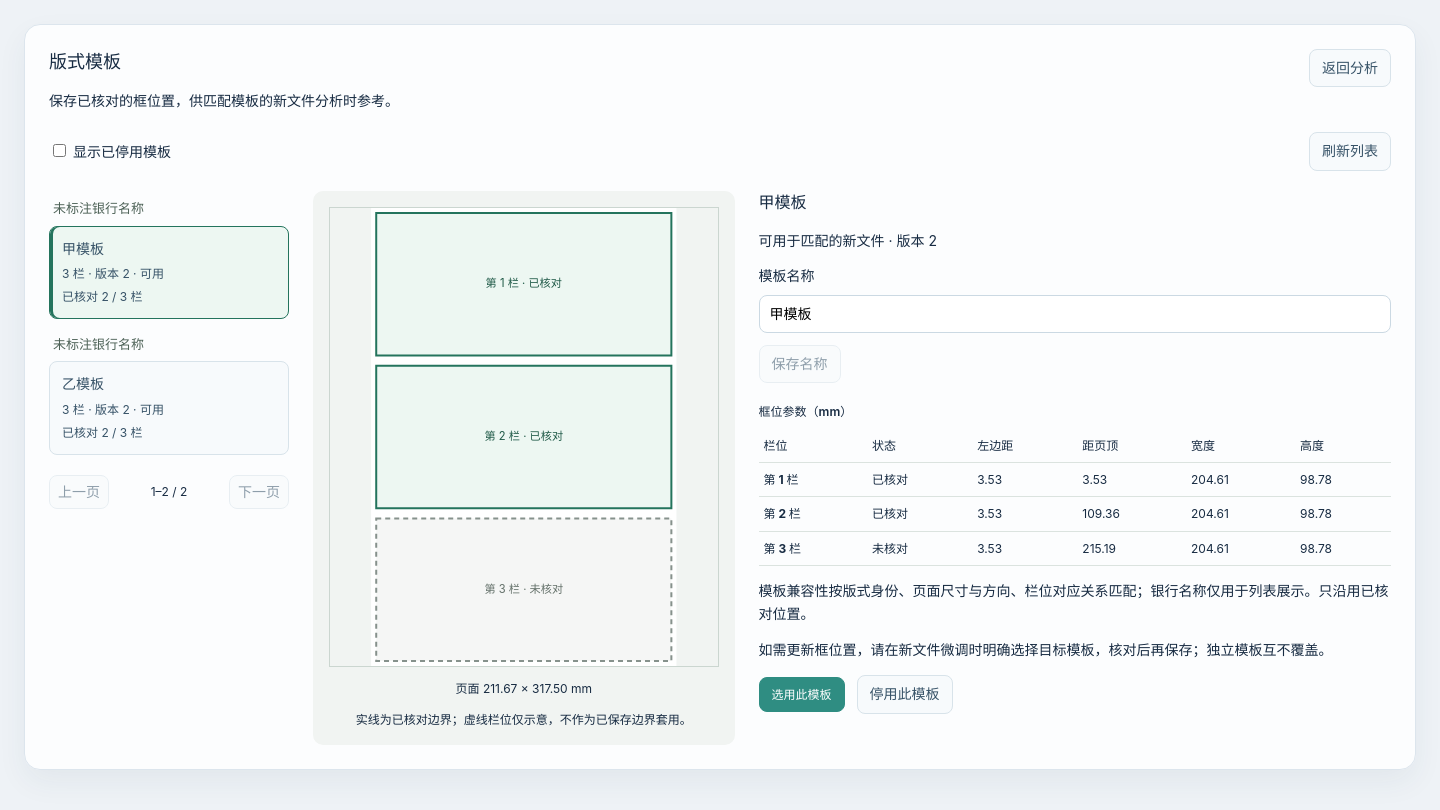
Test: LayoutTemplateManager › keeps a pending rename bound to its template and does not rename another selection
Replace the text in the field labelled "模板名称" with "甲模板新名" at (1075, 314), box [759,295,1391,333]
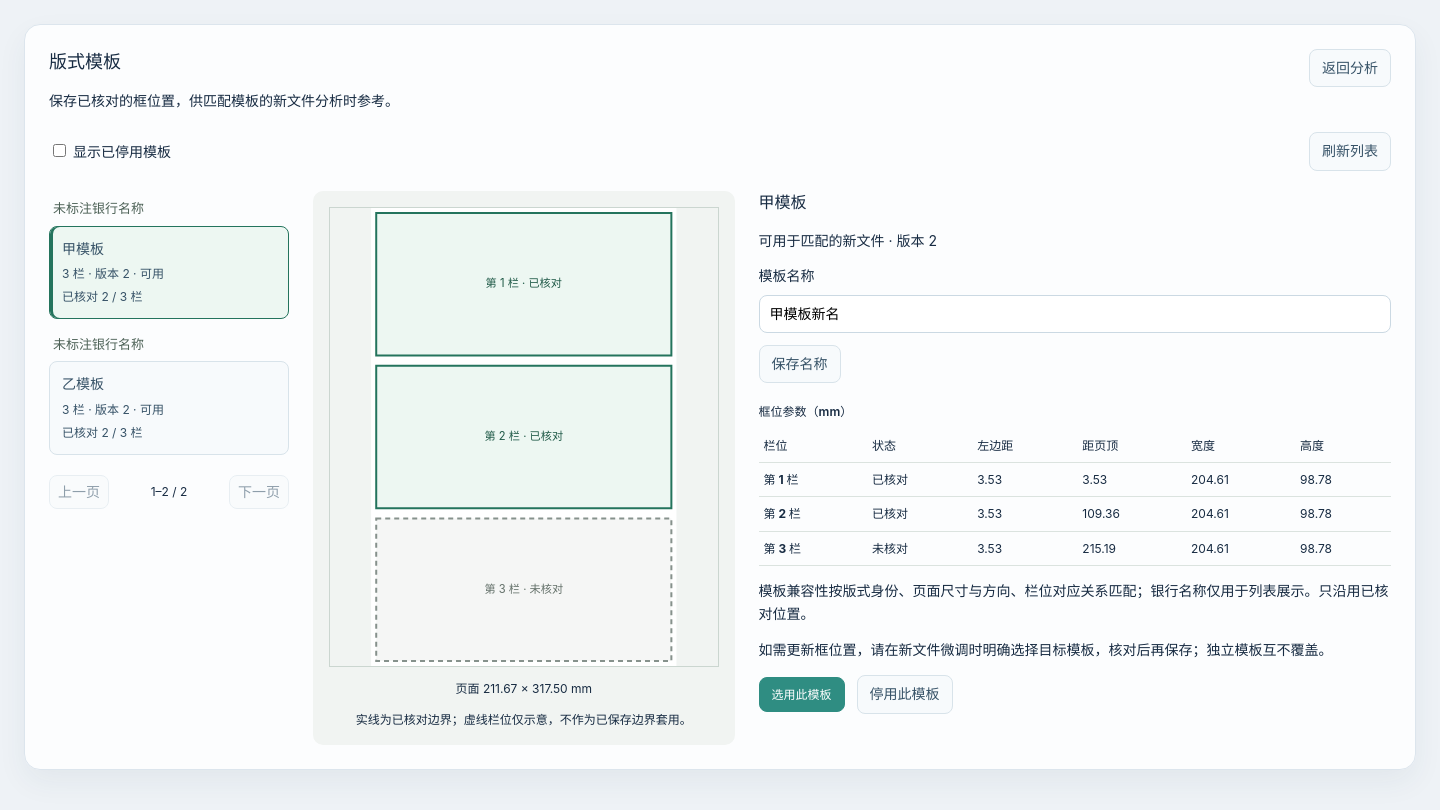
Click the button "保存名称".
click(800, 364)  # box [759,345,841,383]
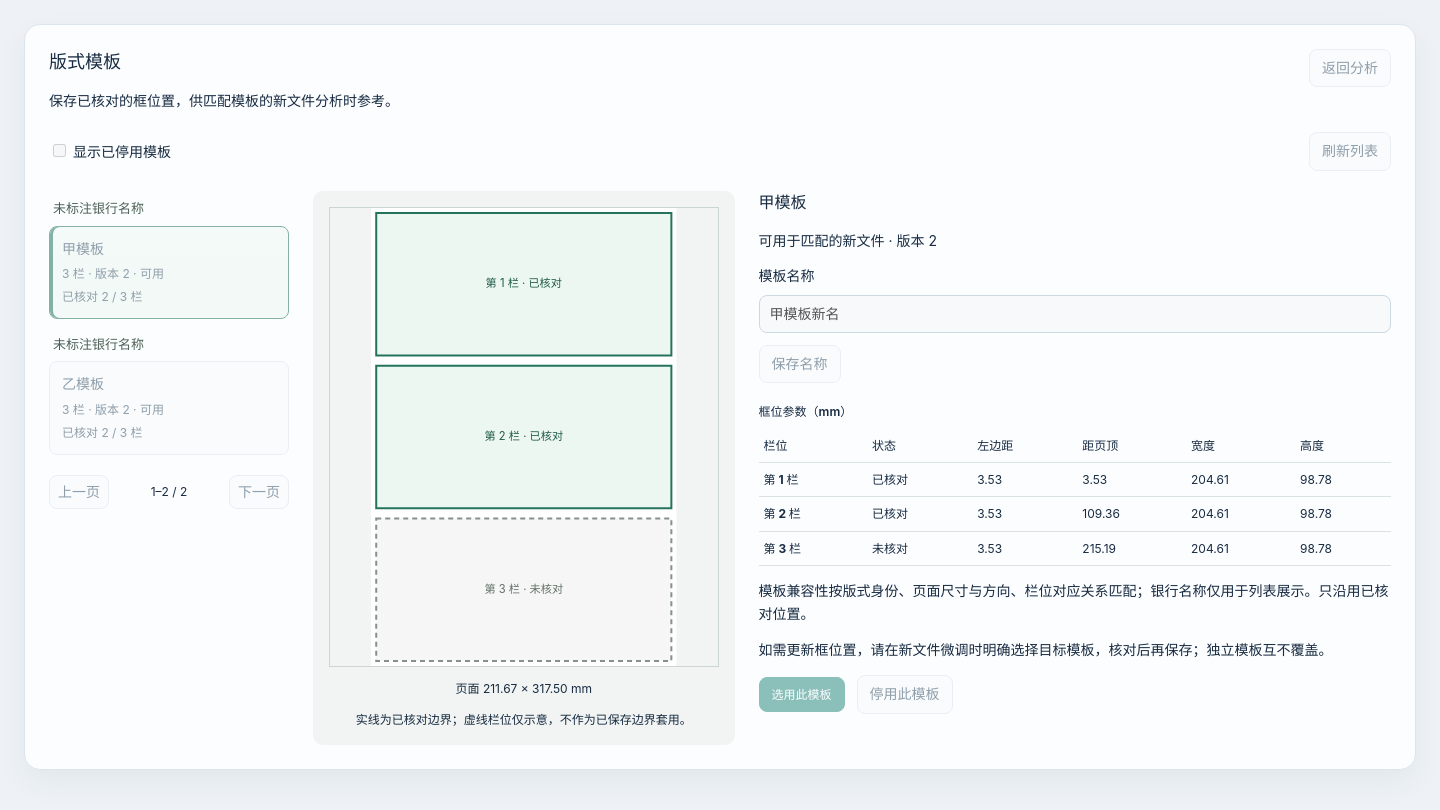
Expected: the button "乙模板 3 栏 · 版本 2 · 可用 已核对 2 / 3 栏" is disabled
Click the button "乙模板 3 栏 · 版本 2 · 可用 已核对 2 / 3 栏".
click(169, 408)  # box [49,362,289,455]
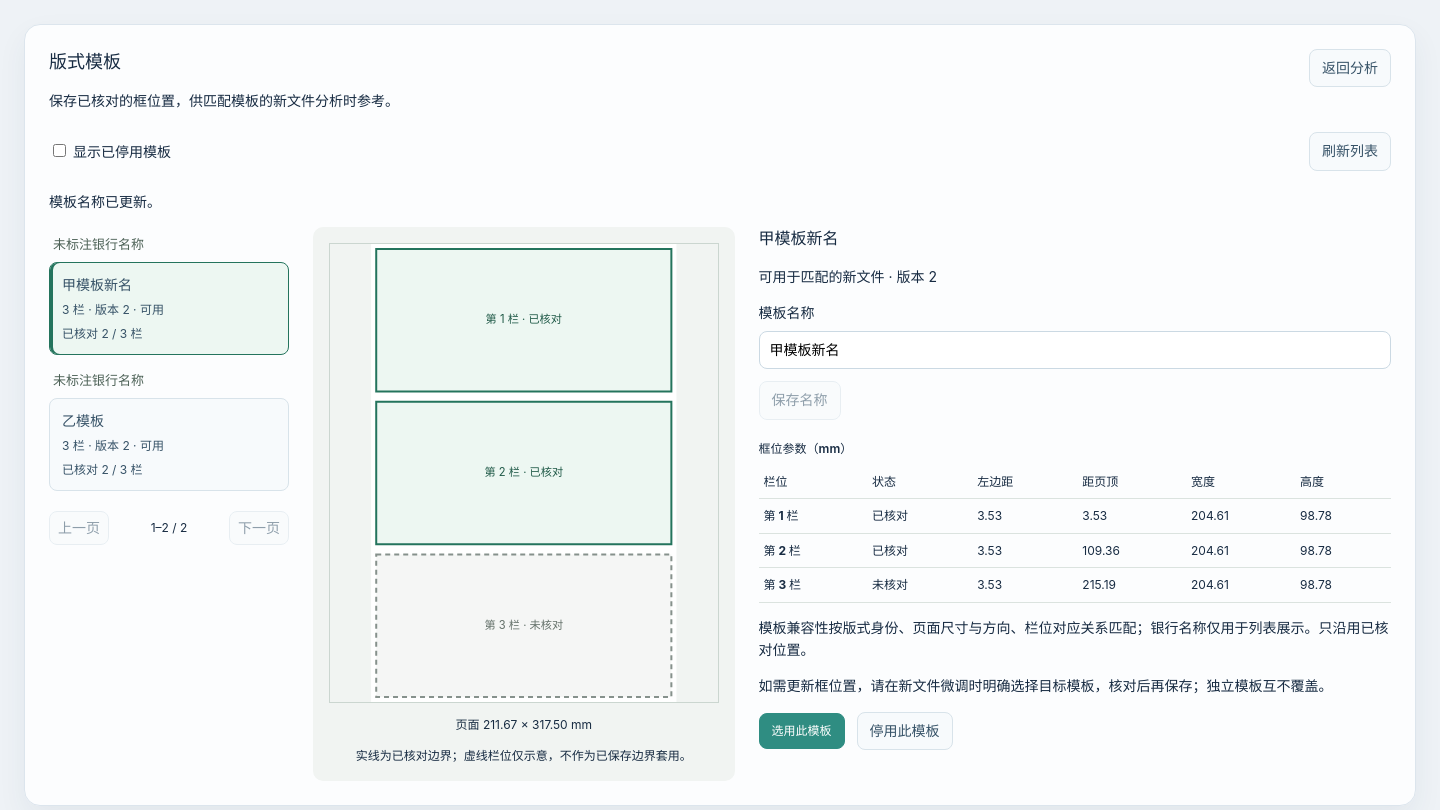
Expected: the field labelled "模板名称" holds "甲模板新名", [759,331,1391,369]
Click the button "乙模板 3 栏 · 版本 2 · 可用 已核对 2 / 3 栏".
click(169, 444)  # box [49,398,289,491]
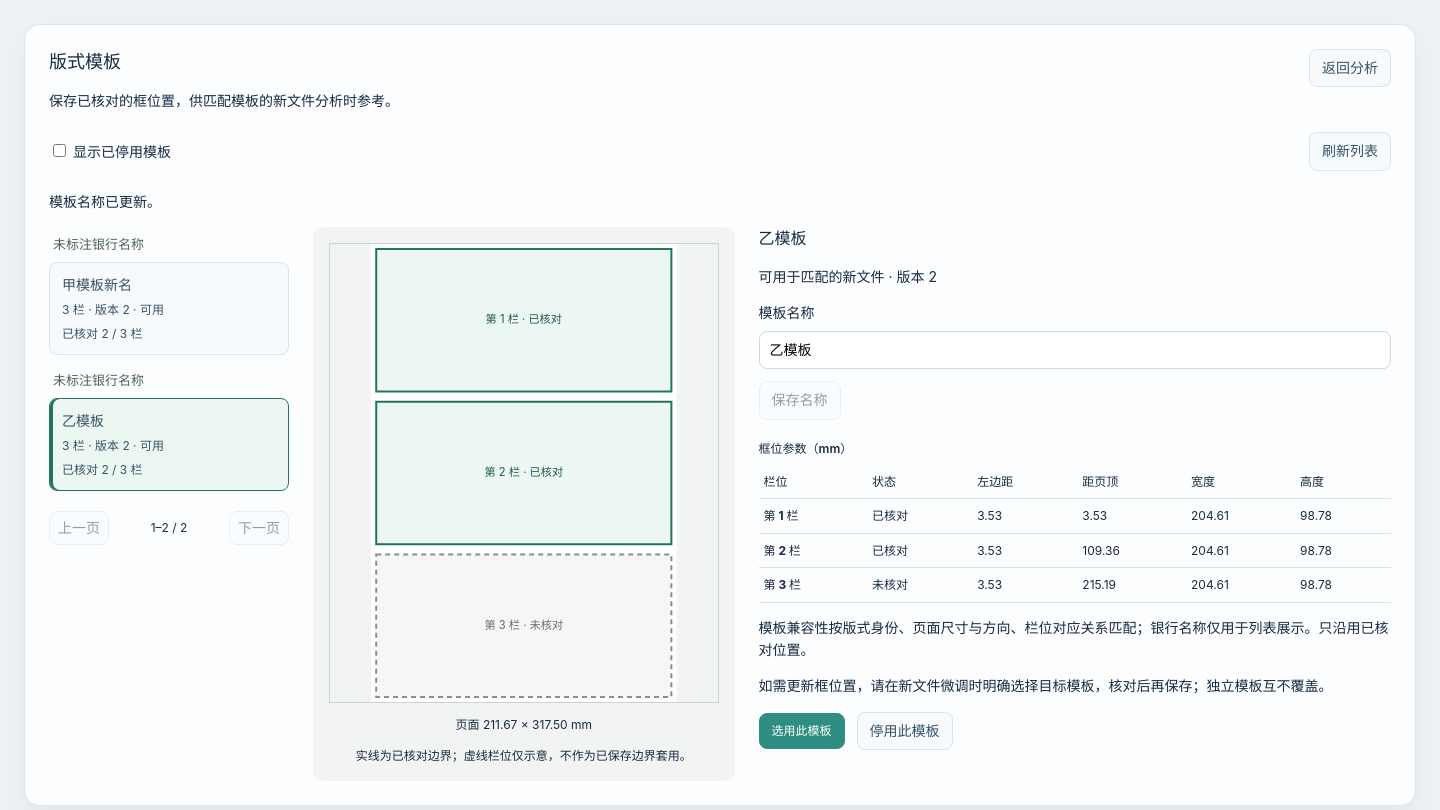
Expected: the field labelled "模板名称" holds "乙模板", [759,331,1391,369]
